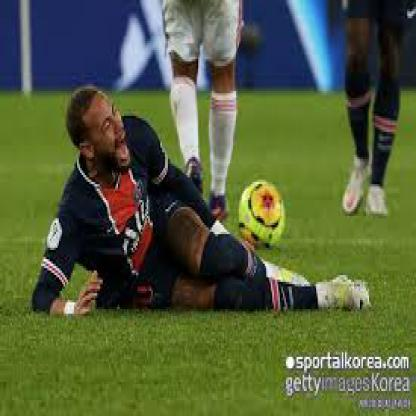Fall_Down: (28, 82, 374, 318)
